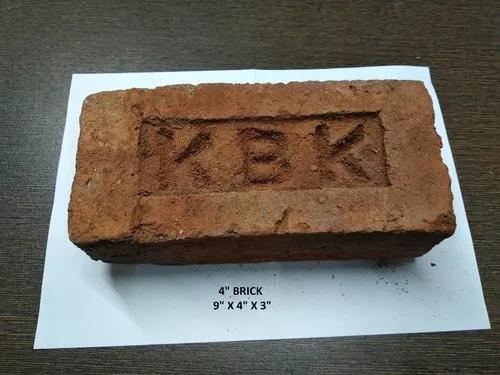brick: (65, 77, 454, 245)
